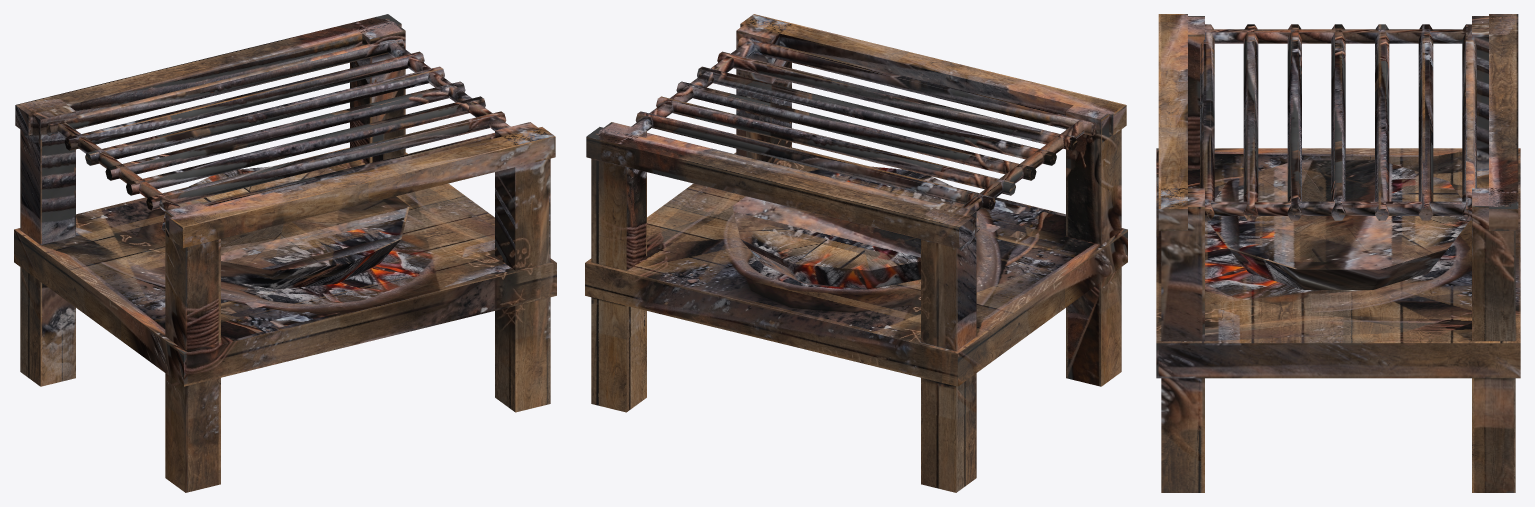
Rendered from Simple_Grill.glb.
3 renders of one model, left to right at view 1: azimuth 30°, elevation 25°; view 2: azimuth 150°, elevation 25°; view 3: azimuth 270°, elevation 25°, orthographic. The views are drawn at different scales.
Parts seen in each view (by area): view 1: Tray_Base; view 2: Tray_Base; view 3: Tray_Base.
Boxes of the visible parts, box(x1,y1,x2,y2) form: Tray_Base: box(14, 14, 556, 492); Tray_Base: box(585, 14, 1127, 492); Tray_Base: box(1156, 14, 1520, 492).
Bounding box in the file's own units: 0.95 × 0.65 × 0.75.
1 material, 1 textured.
